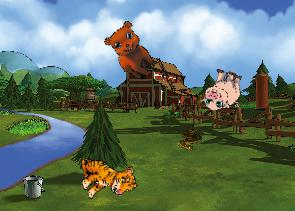bear: (98, 16, 168, 84)
pig: (199, 65, 246, 115)
tiger: (75, 147, 138, 204)
